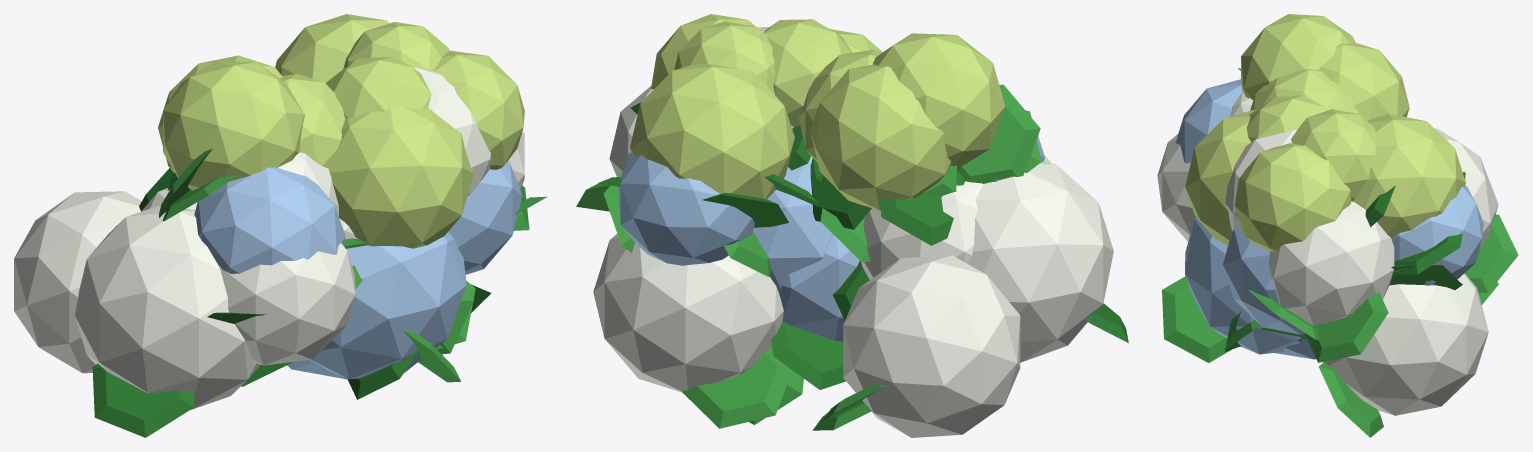
The model's file is hydrangea.glb.
The picture shows the model from 3 angles, left to right: view 1: azimuth 30°, elevation 25°; view 2: azimuth 150°, elevation 25°; view 3: azimuth 270°, elevation 25°; orthographic projection. The views are drawn at different scales.
Parts seen in each view (by area): view 1: n25, n29, n27, n28, n26; view 2: n25, n29, n27, n26, n28; view 3: n29, n25, n27, n26, n28.
Boxes of the visible parts, x1=… form: n25: x1=14, y1=67, x2=524, y2=409; n29: x1=158, y1=14, x2=524, y2=248; n27: x1=194, y1=161, x2=521, y2=379; n28: x1=92, y1=168, x2=419, y2=437; n26: x1=159, y1=148, x2=547, y2=382; n25: x1=593, y1=27, x2=1113, y2=437; n29: x1=630, y1=14, x2=1005, y2=210; n27: x1=618, y1=136, x2=1044, y2=341; n26: x1=576, y1=84, x2=1041, y2=430; n28: x1=597, y1=102, x2=1128, y2=389; n29: x1=1185, y1=14, x2=1465, y2=251; n25: x1=1157, y1=92, x2=1498, y2=415; n27: x1=1176, y1=79, x2=1483, y2=359; n26: x1=1162, y1=68, x2=1518, y2=437; n28: x1=1260, y1=172, x2=1465, y2=339.
Size of the model in its own units: 2.16 by 1.51 by 1.56.
